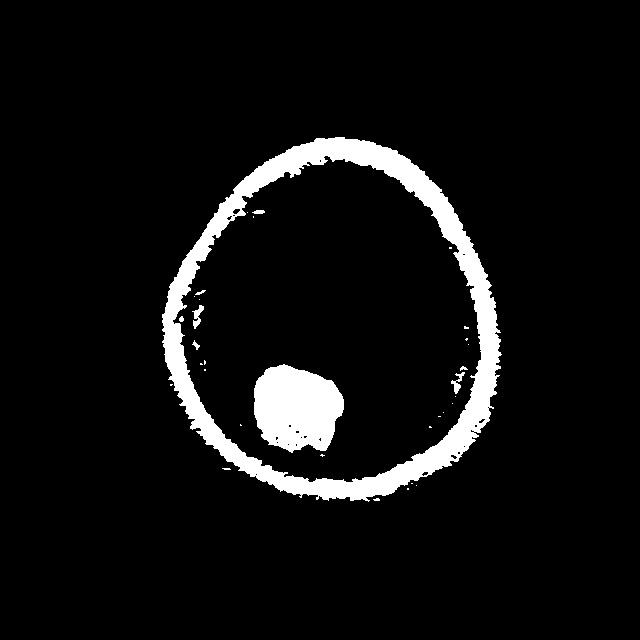Brain-Tumor: (249, 355, 354, 458)
